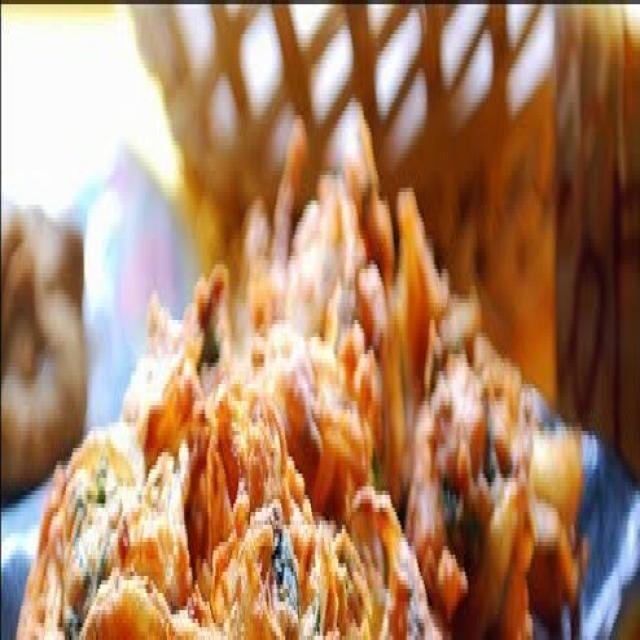Onion Pakora: (21, 127, 588, 640)
